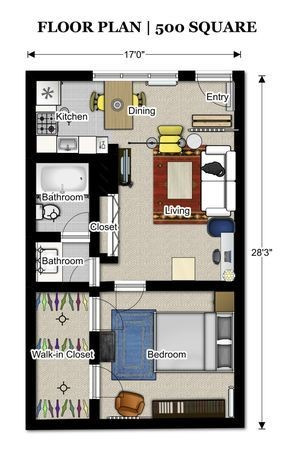door: (90, 365, 126, 400), (191, 83, 233, 111), (98, 299, 126, 336), (67, 258, 105, 284), (111, 289, 151, 312), (66, 213, 90, 237)
room: (25, 294, 250, 430), (114, 142, 250, 283), (24, 74, 247, 148), (25, 156, 131, 296)
wall: (23, 68, 41, 432), (231, 70, 249, 427), (24, 418, 245, 434), (31, 148, 120, 166), (146, 279, 241, 294), (87, 166, 101, 258), (25, 68, 94, 85), (22, 281, 90, 293), (87, 330, 103, 362), (33, 230, 62, 245), (179, 66, 197, 85), (85, 400, 104, 417), (100, 281, 116, 294), (102, 253, 118, 266)
window: (93, 70, 179, 83), (116, 277, 148, 293)
